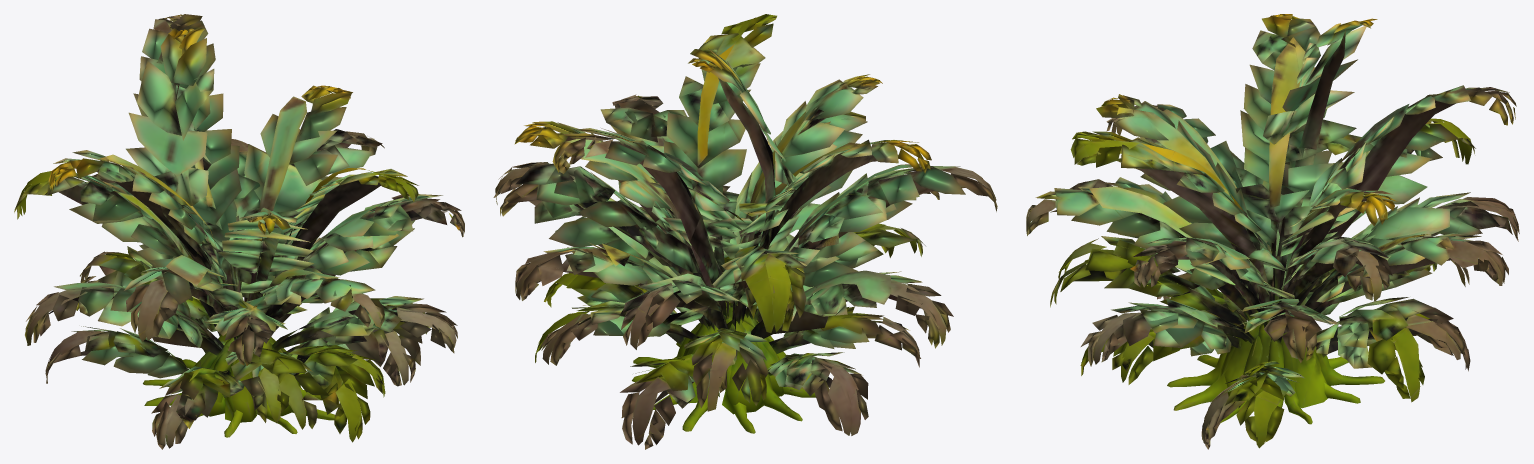
File: veg-fern.glb
The picture shows the model from 3 angles, left to right: view 1: azimuth 30°, elevation 25°; view 2: azimuth 150°, elevation 25°; view 3: azimuth 270°, elevation 25°; orthographic projection. The views are drawn at different scales.
Parts seen in each view (by area): view 1: Mesh_0; view 2: Mesh_0; view 3: Mesh_0.
Part boxes in pixels (x1,y1,x2,y2): Mesh_0: (14, 14, 464, 449); Mesh_0: (493, 14, 997, 449); Mesh_0: (1026, 14, 1519, 449).
Size of the model in its own units: 1 by 0.8066 by 0.998.
Materials: 1 (1 with a texture image).
